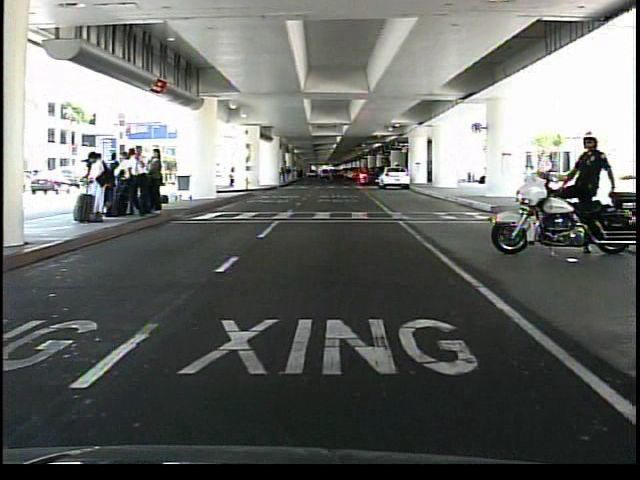person: (561, 129, 613, 261)
